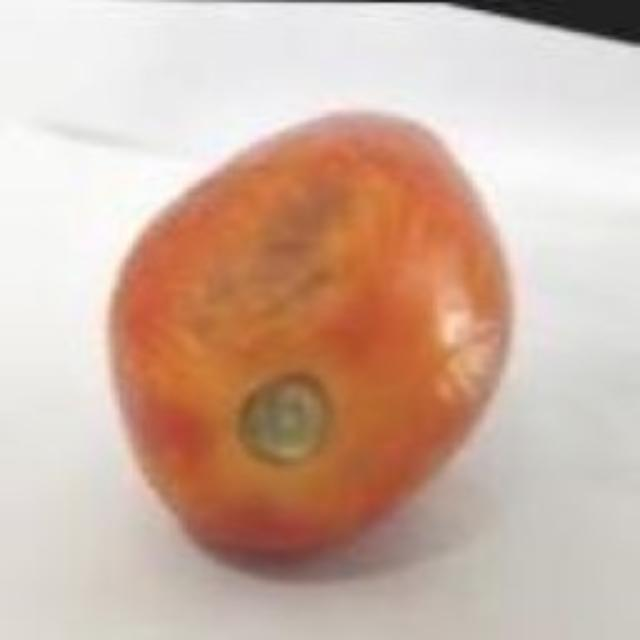defect: (95, 103, 522, 561)
